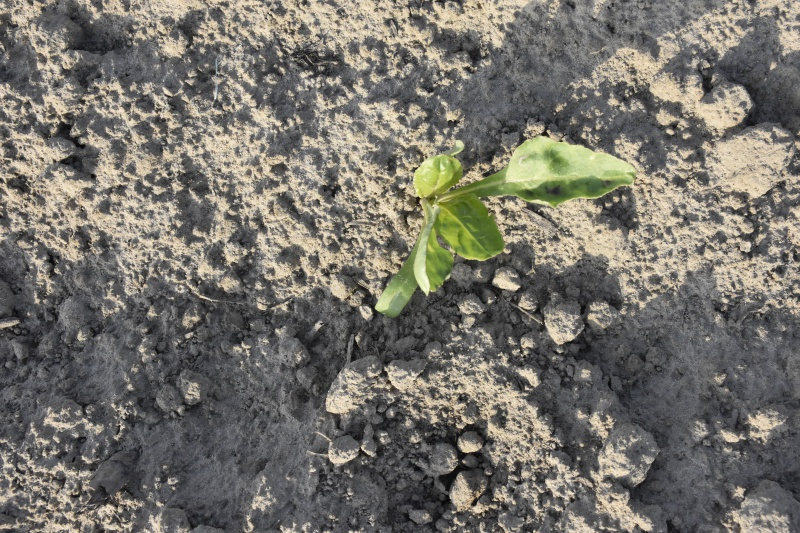sugar beet: (361, 132, 640, 322)
